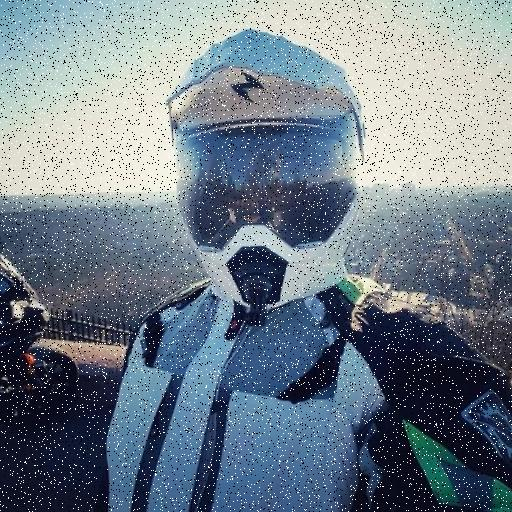Helmet: (168, 31, 363, 323)
Motor: (0, 254, 78, 423)
